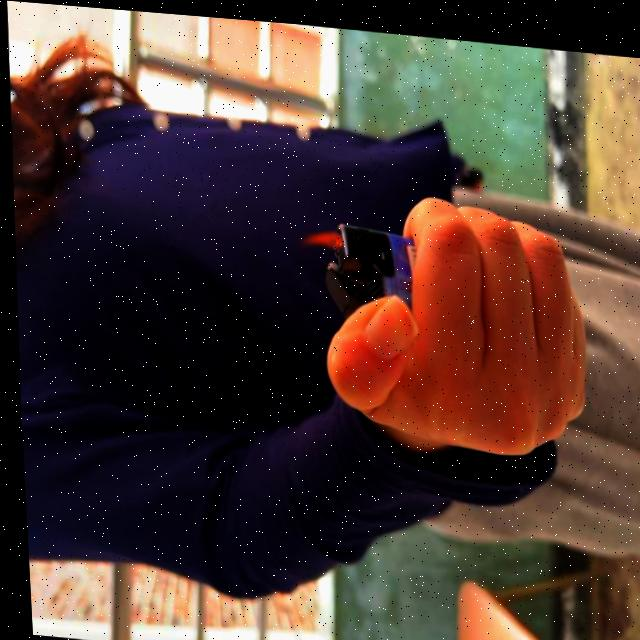Fire: (292, 217, 343, 248)
